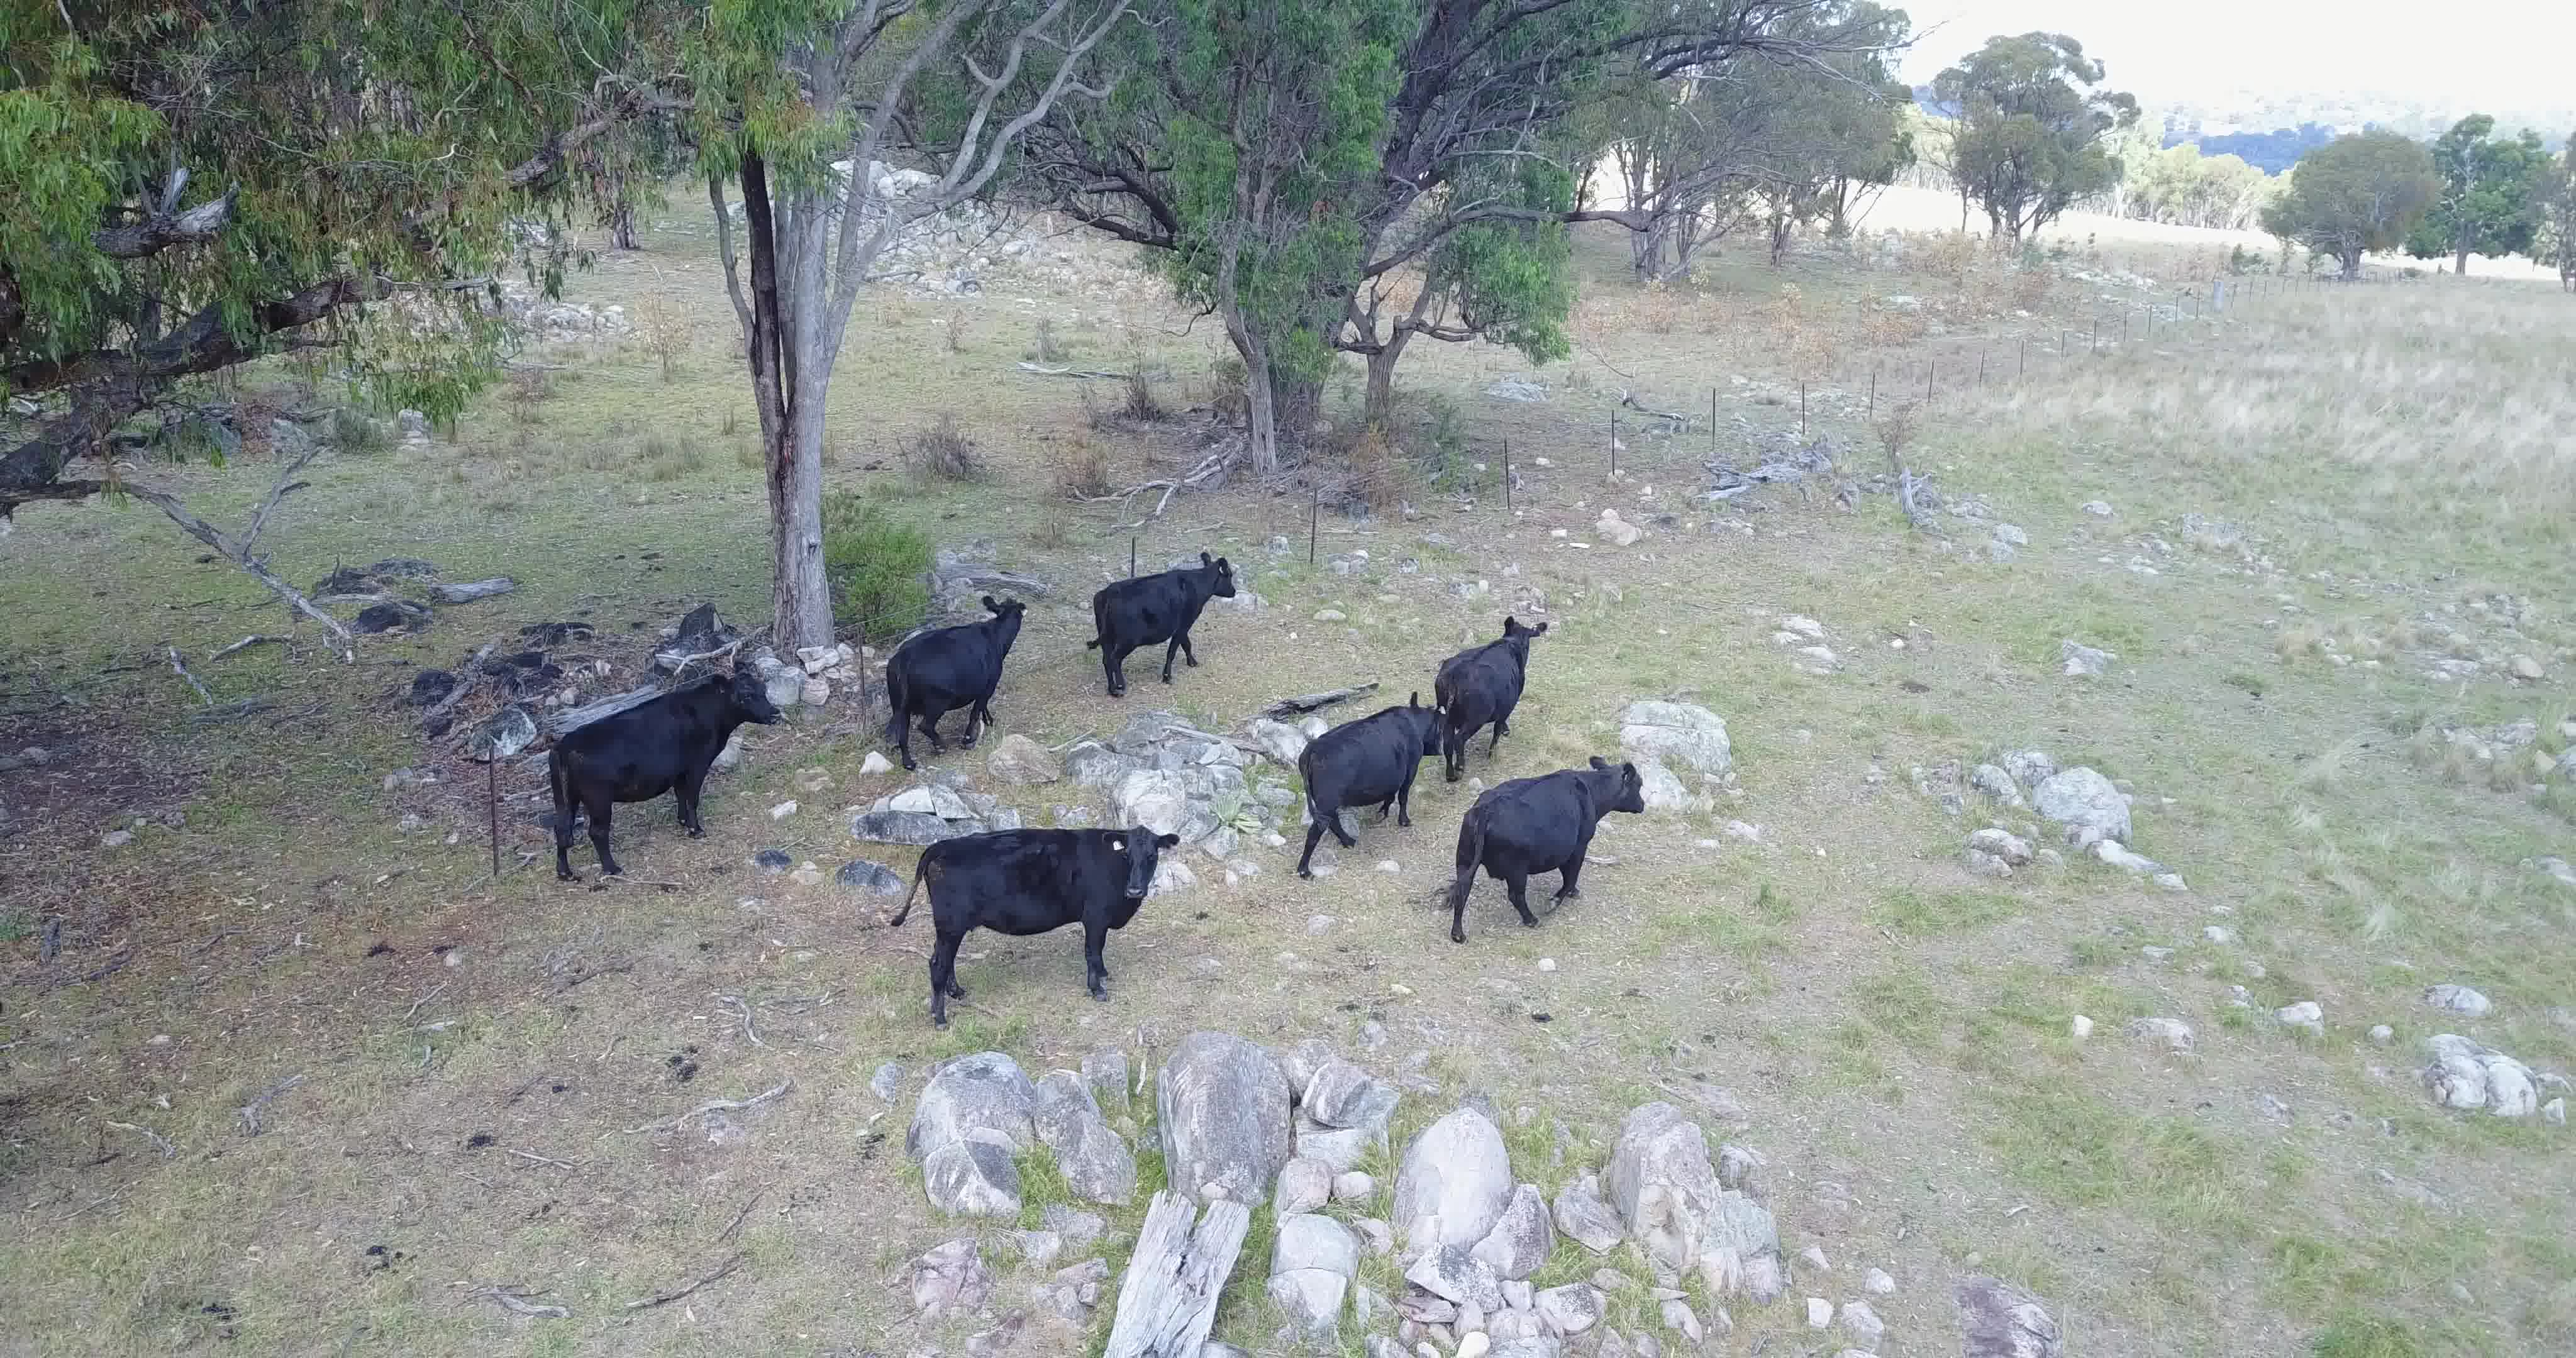cattle: (884, 818, 1189, 1036), (538, 666, 784, 886), (1429, 753, 1644, 944), (1288, 690, 1448, 888), (871, 588, 1032, 777), (1080, 549, 1252, 702), (1433, 612, 1550, 787)
